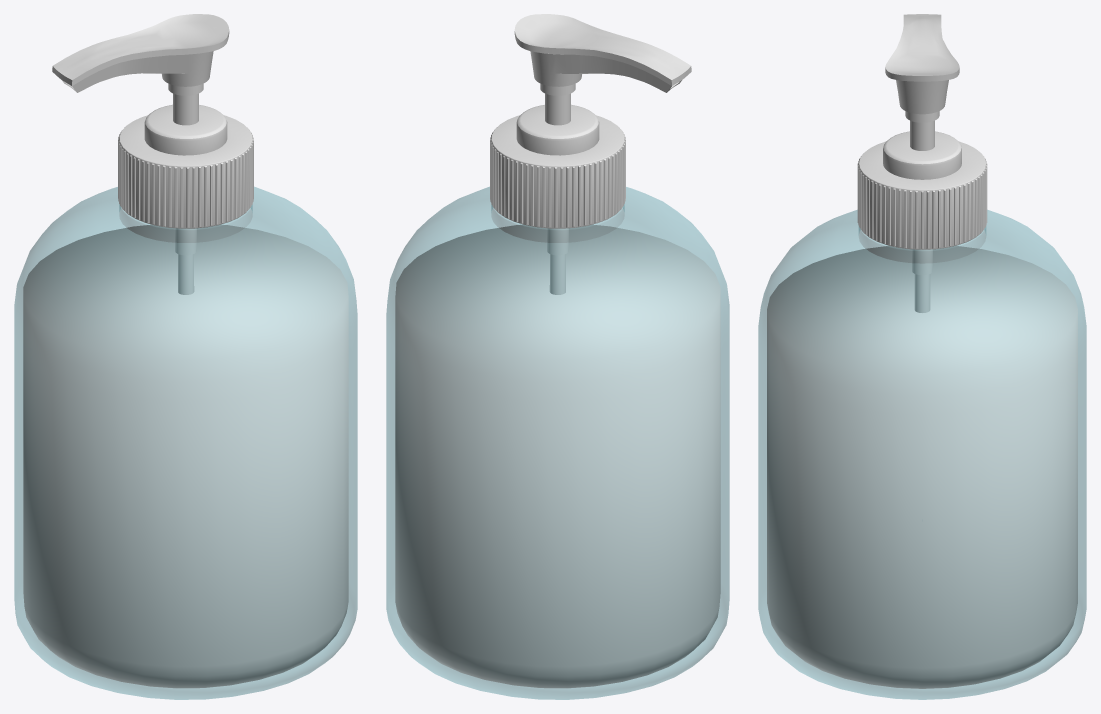
The model's file is Sanitizer.fbx.
3 renders of one model, left to right at view 1: azimuth 30°, elevation 25°; view 2: azimuth 150°, elevation 25°; view 3: azimuth 270°, elevation 25°, orthographic. The views are drawn at different scales.
Parts seen in each view (by area): view 1: Bottle, Fluid, Pump; view 2: Bottle, Fluid, Pump; view 3: Bottle, Fluid, Pump.
Part boxes in pixels (x1,y1,x2,y2): Bottle: (14,104,357,699); Fluid: (23,224,348,688); Pump: (52,14,229,125); Bottle: (386,104,729,699); Fluid: (395,224,720,688); Pump: (514,14,691,125); Bottle: (758,131,1086,699); Fluid: (767,245,1077,688); Pump: (885,14,959,150).
Size of the model in its own units: 2.41 by 4.73 by 2.41.
